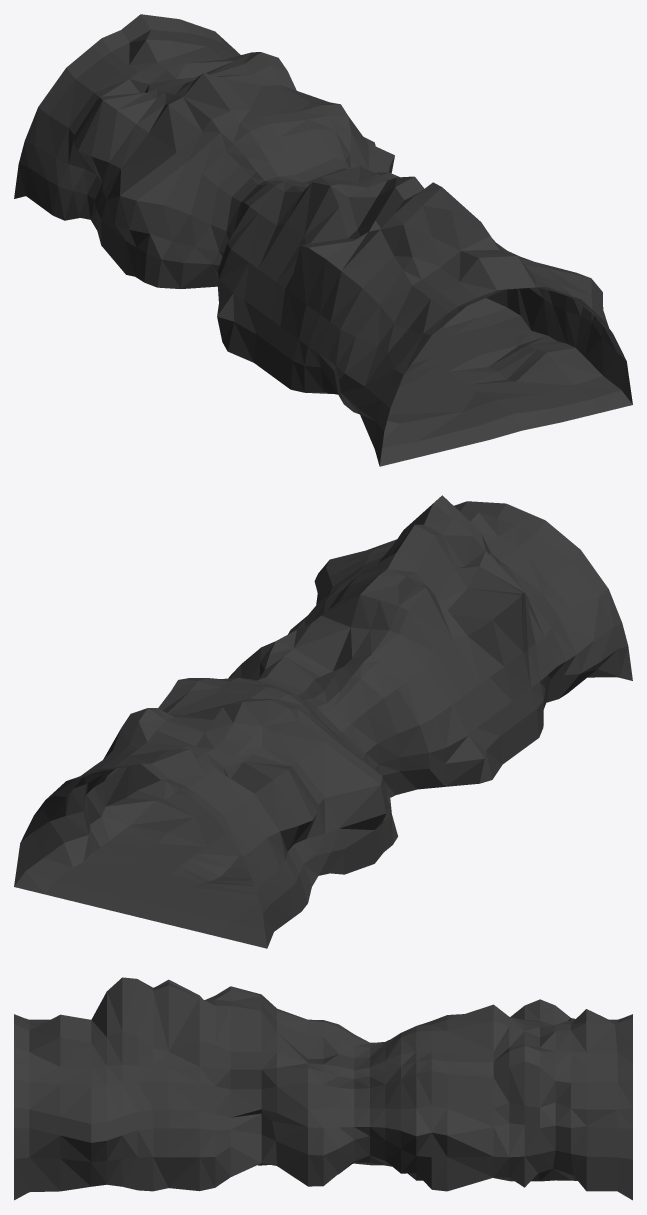
File: Cave_3.fbx
3 renders of one model, top to bottom at view 1: azimuth 30°, elevation 25°; view 2: azimuth 150°, elevation 25°; view 3: azimuth 270°, elevation 25°, orthographic. The views are drawn at different scales.
Visible parts, largest first — view 1: pCylinder5; view 2: pCylinder5; view 3: pCylinder5.
Boxes of the visible parts, x1=… form: pCylinder5: x1=14, y1=14, x2=632, y2=466; pCylinder5: x1=14, y1=495, x2=632, y2=948; pCylinder5: x1=14, y1=977, x2=632, y2=1200.
Size of the model in its own units: 8.79 by 6.16 by 20.
